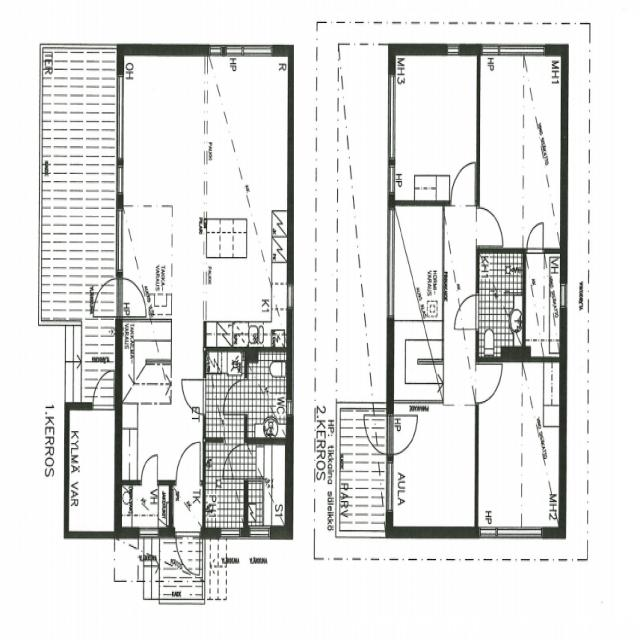door: (114, 277, 147, 317), (175, 527, 200, 579), (90, 277, 122, 317), (387, 416, 419, 455), (363, 416, 394, 455), (475, 365, 504, 404), (175, 441, 200, 486), (475, 208, 503, 246), (452, 292, 480, 328), (451, 163, 474, 206), (180, 379, 206, 416), (222, 378, 248, 414), (92, 368, 113, 410), (224, 445, 248, 478), (526, 221, 544, 253), (141, 454, 157, 486)
